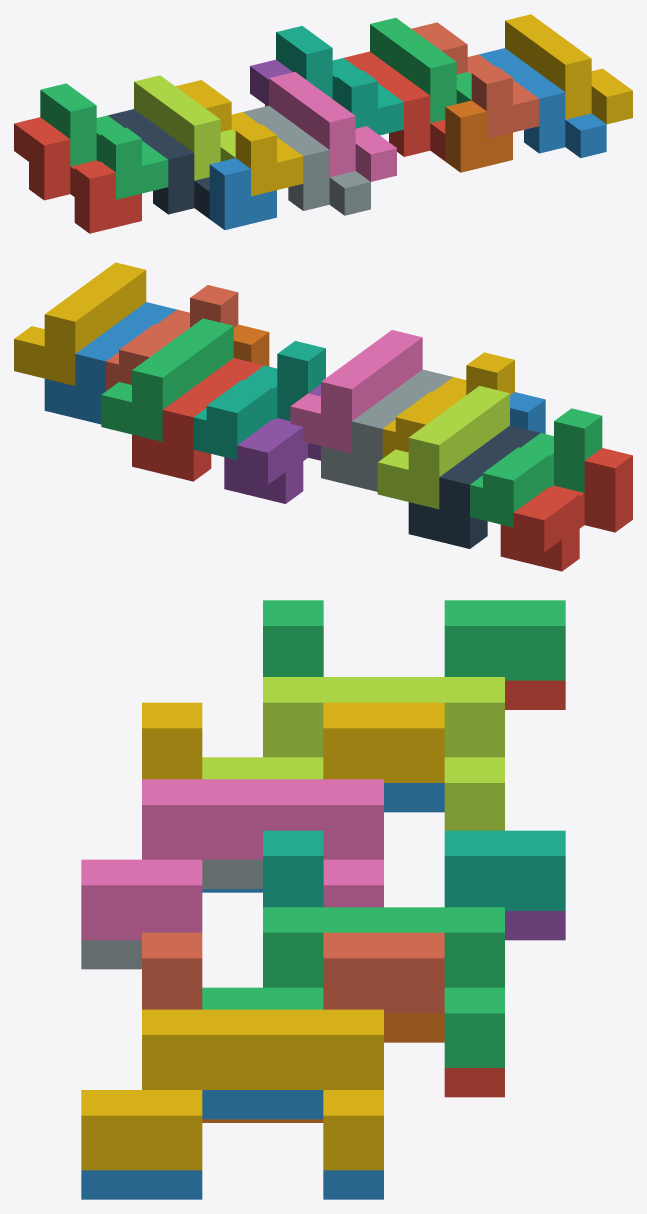
The model's file is tiling.obj.
The picture shows the model from 3 angles, top to bottom: view 1: azimuth 30°, elevation 25°; view 2: azimuth 150°, elevation 25°; view 3: azimuth 270°, elevation 25°; orthographic projection. The views are drawn at different scales.
Parts seen in each view (by area): view 1: copy_1_domain_1, copy_1_domain_3, copy_2_domain_8, copy_2_domain_4, copy_1_domain_7, copy_2_domain_3, copy_2_domain_7, copy_1_domain_8, copy_1_domain_4, copy_2_domain_6, copy_2_domain_2, copy_2_domain_1 (+4 smaller); view 2: copy_1_domain_1, copy_1_domain_3, copy_2_domain_3, copy_2_domain_8, copy_2_domain_7, copy_2_domain_4, copy_1_domain_7, copy_2_domain_5, copy_2_domain_1, copy_1_domain_5, copy_2_domain_6, copy_2_domain_2 (+4 smaller); view 3: copy_2_domain_8, copy_2_domain_4, copy_2_domain_7, copy_2_domain_3, copy_1_domain_8, copy_1_domain_4, copy_1_domain_7, copy_1_domain_3, copy_2_domain_6, copy_2_domain_2, copy_1_domain_6, copy_1_domain_2 (+3 smaller).
Boxes of the visible parts, left/top/right/bottom form: copy_1_domain_1: left=14, top=117, right=141, bottom=233; copy_1_domain_3: left=40, top=83, right=168, bottom=199; copy_2_domain_8: left=505, top=14, right=632, bottom=124; copy_2_domain_4: left=269, top=72, right=396, bottom=181; copy_1_domain_7: left=276, top=26, right=403, bottom=135; copy_2_domain_3: left=134, top=75, right=235, bottom=180; copy_2_domain_7: left=370, top=17, right=471, bottom=122; copy_1_domain_8: left=411, top=22, right=539, bottom=138; copy_1_domain_4: left=175, top=80, right=303, bottom=196; copy_2_domain_6: left=479, top=48, right=606, bottom=158; copy_2_domain_2: left=243, top=105, right=370, bottom=215; copy_2_domain_1: left=108, top=109, right=209, bottom=218; copy_1_domain_1: left=500, top=448, right=632, bottom=571; copy_1_domain_3: left=470, top=408, right=602, bottom=527; copy_2_domain_3: left=377, top=386, right=509, bottom=509; copy_2_domain_8: left=14, top=262, right=146, bottom=385; copy_2_domain_7: left=101, top=318, right=233, bottom=441; copy_2_domain_4: left=290, top=330, right=422, bottom=453; copy_1_domain_7: left=193, top=341, right=325, bottom=459; copy_2_domain_5: left=132, top=358, right=263, bottom=481; copy_2_domain_1: left=408, top=425, right=540, bottom=548; copy_1_domain_5: left=224, top=384, right=320, bottom=503; copy_2_domain_6: left=44, top=302, right=176, bottom=424; copy_2_domain_2: left=321, top=369, right=452, bottom=491; copy_2_domain_8: left=81, top=1009, right=383, bottom=1170; copy_2_domain_4: left=81, top=779, right=383, bottom=940; copy_2_domain_7: left=202, top=907, right=504, bottom=1067; copy_2_domain_3: left=202, top=677, right=504, bottom=830; copy_1_domain_8: left=142, top=932, right=444, bottom=1013; copy_1_domain_4: left=142, top=702, right=444, bottom=782; copy_1_domain_7: left=263, top=830, right=565, bottom=910; copy_1_domain_3: left=263, top=600, right=565, bottom=680; copy_2_domain_6: left=81, top=1090, right=383, bottom=1199; copy_2_domain_2: left=81, top=859, right=262, bottom=969; copy_1_domain_6: left=202, top=1013, right=444, bottom=1122; copy_1_domain_2: left=202, top=783, right=444, bottom=892.
Size of the model in its own units: 19 by 3 by 8.
